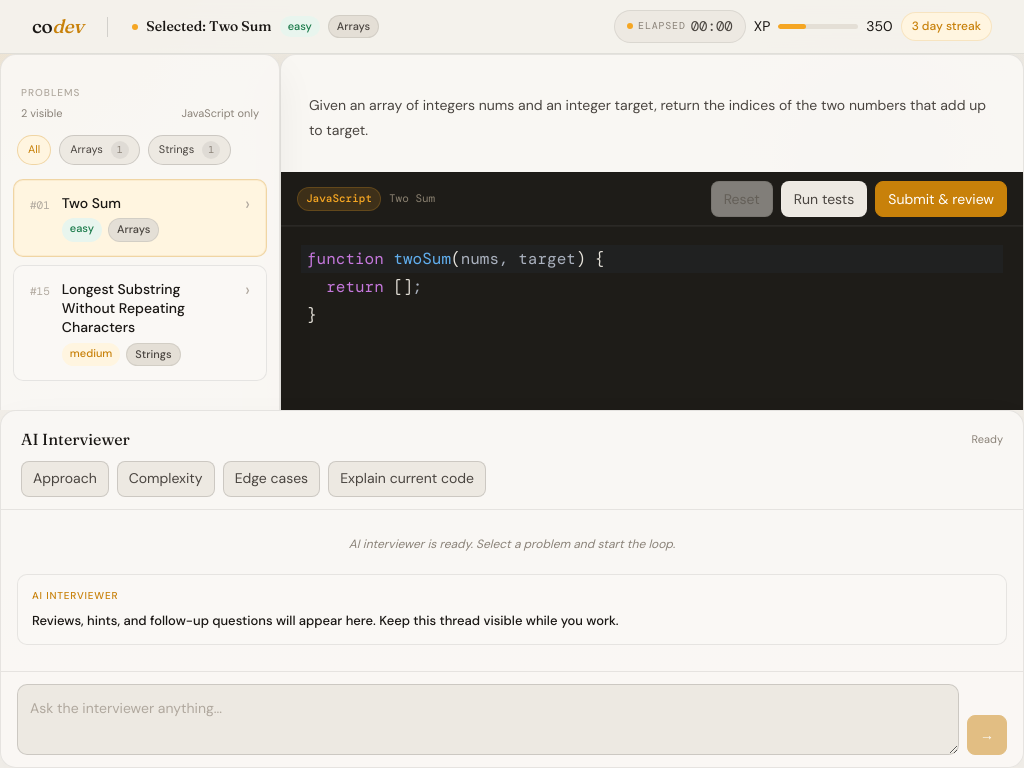
it: App problem list flow › appends each review to the AI thread when the user submits again
The image size is (1024, 768).
Expected: the heading "Selected: Two Sum" is shown, [146,19,272,34]
Click the button "Submit & review" at (941, 199), box [875,181,1007,217]
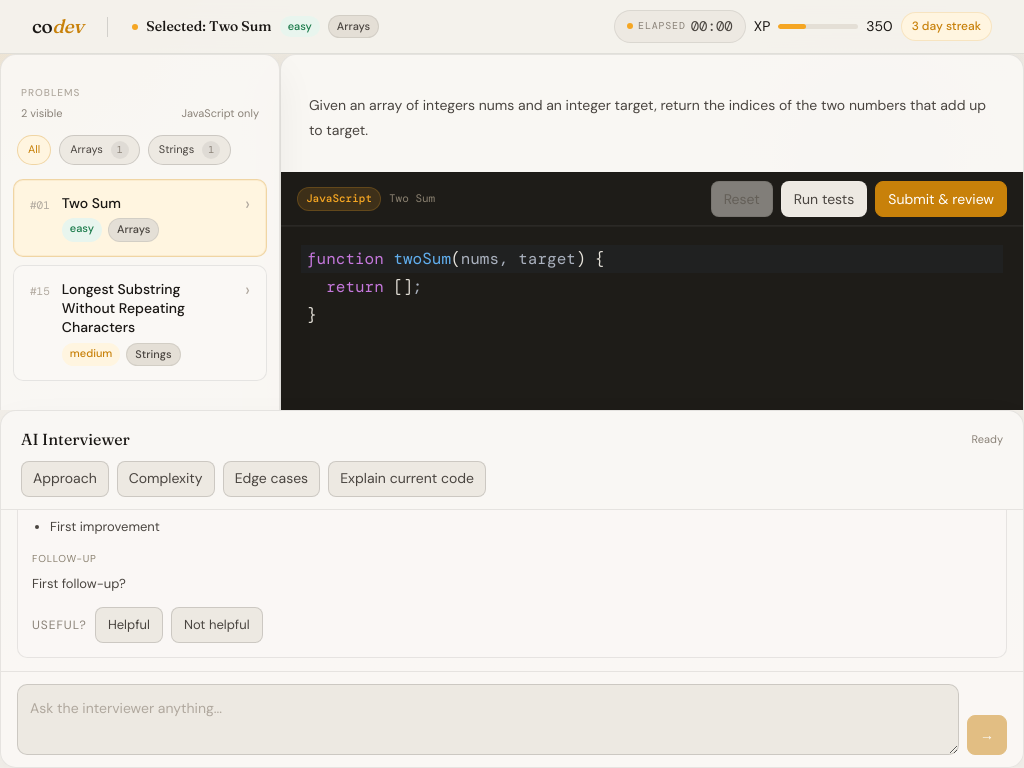
Click the button "Submit & review" at (941, 199), box [875,181,1007,217]
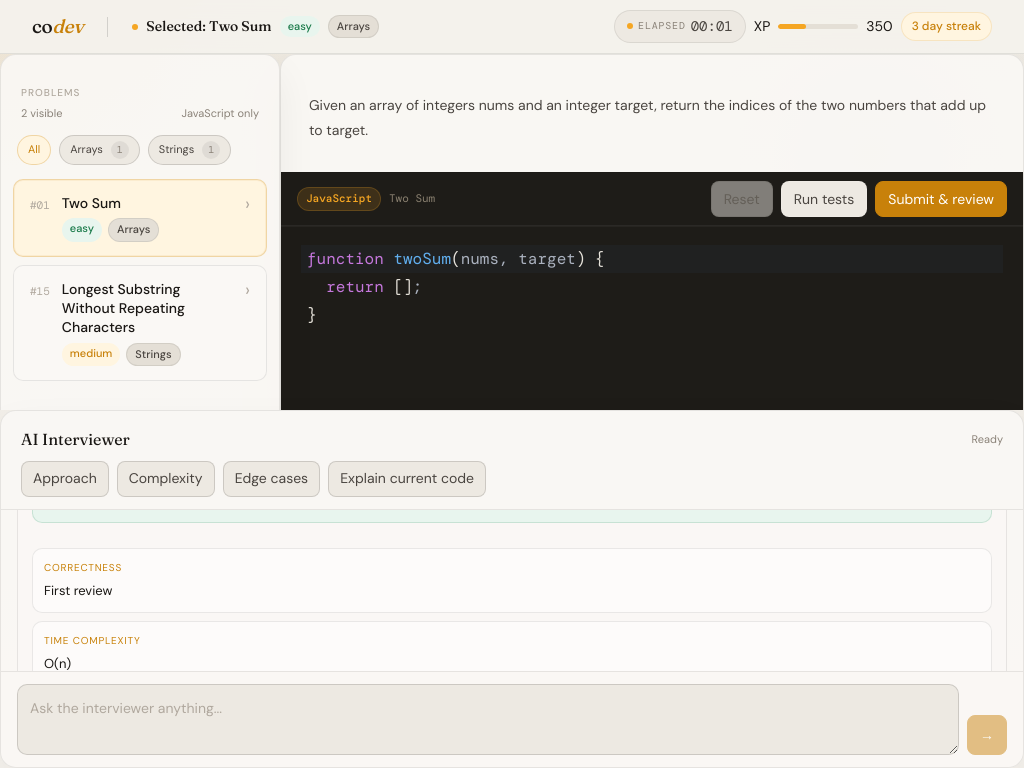
Now the text "First review" is shown, box [44,582,112,599]
